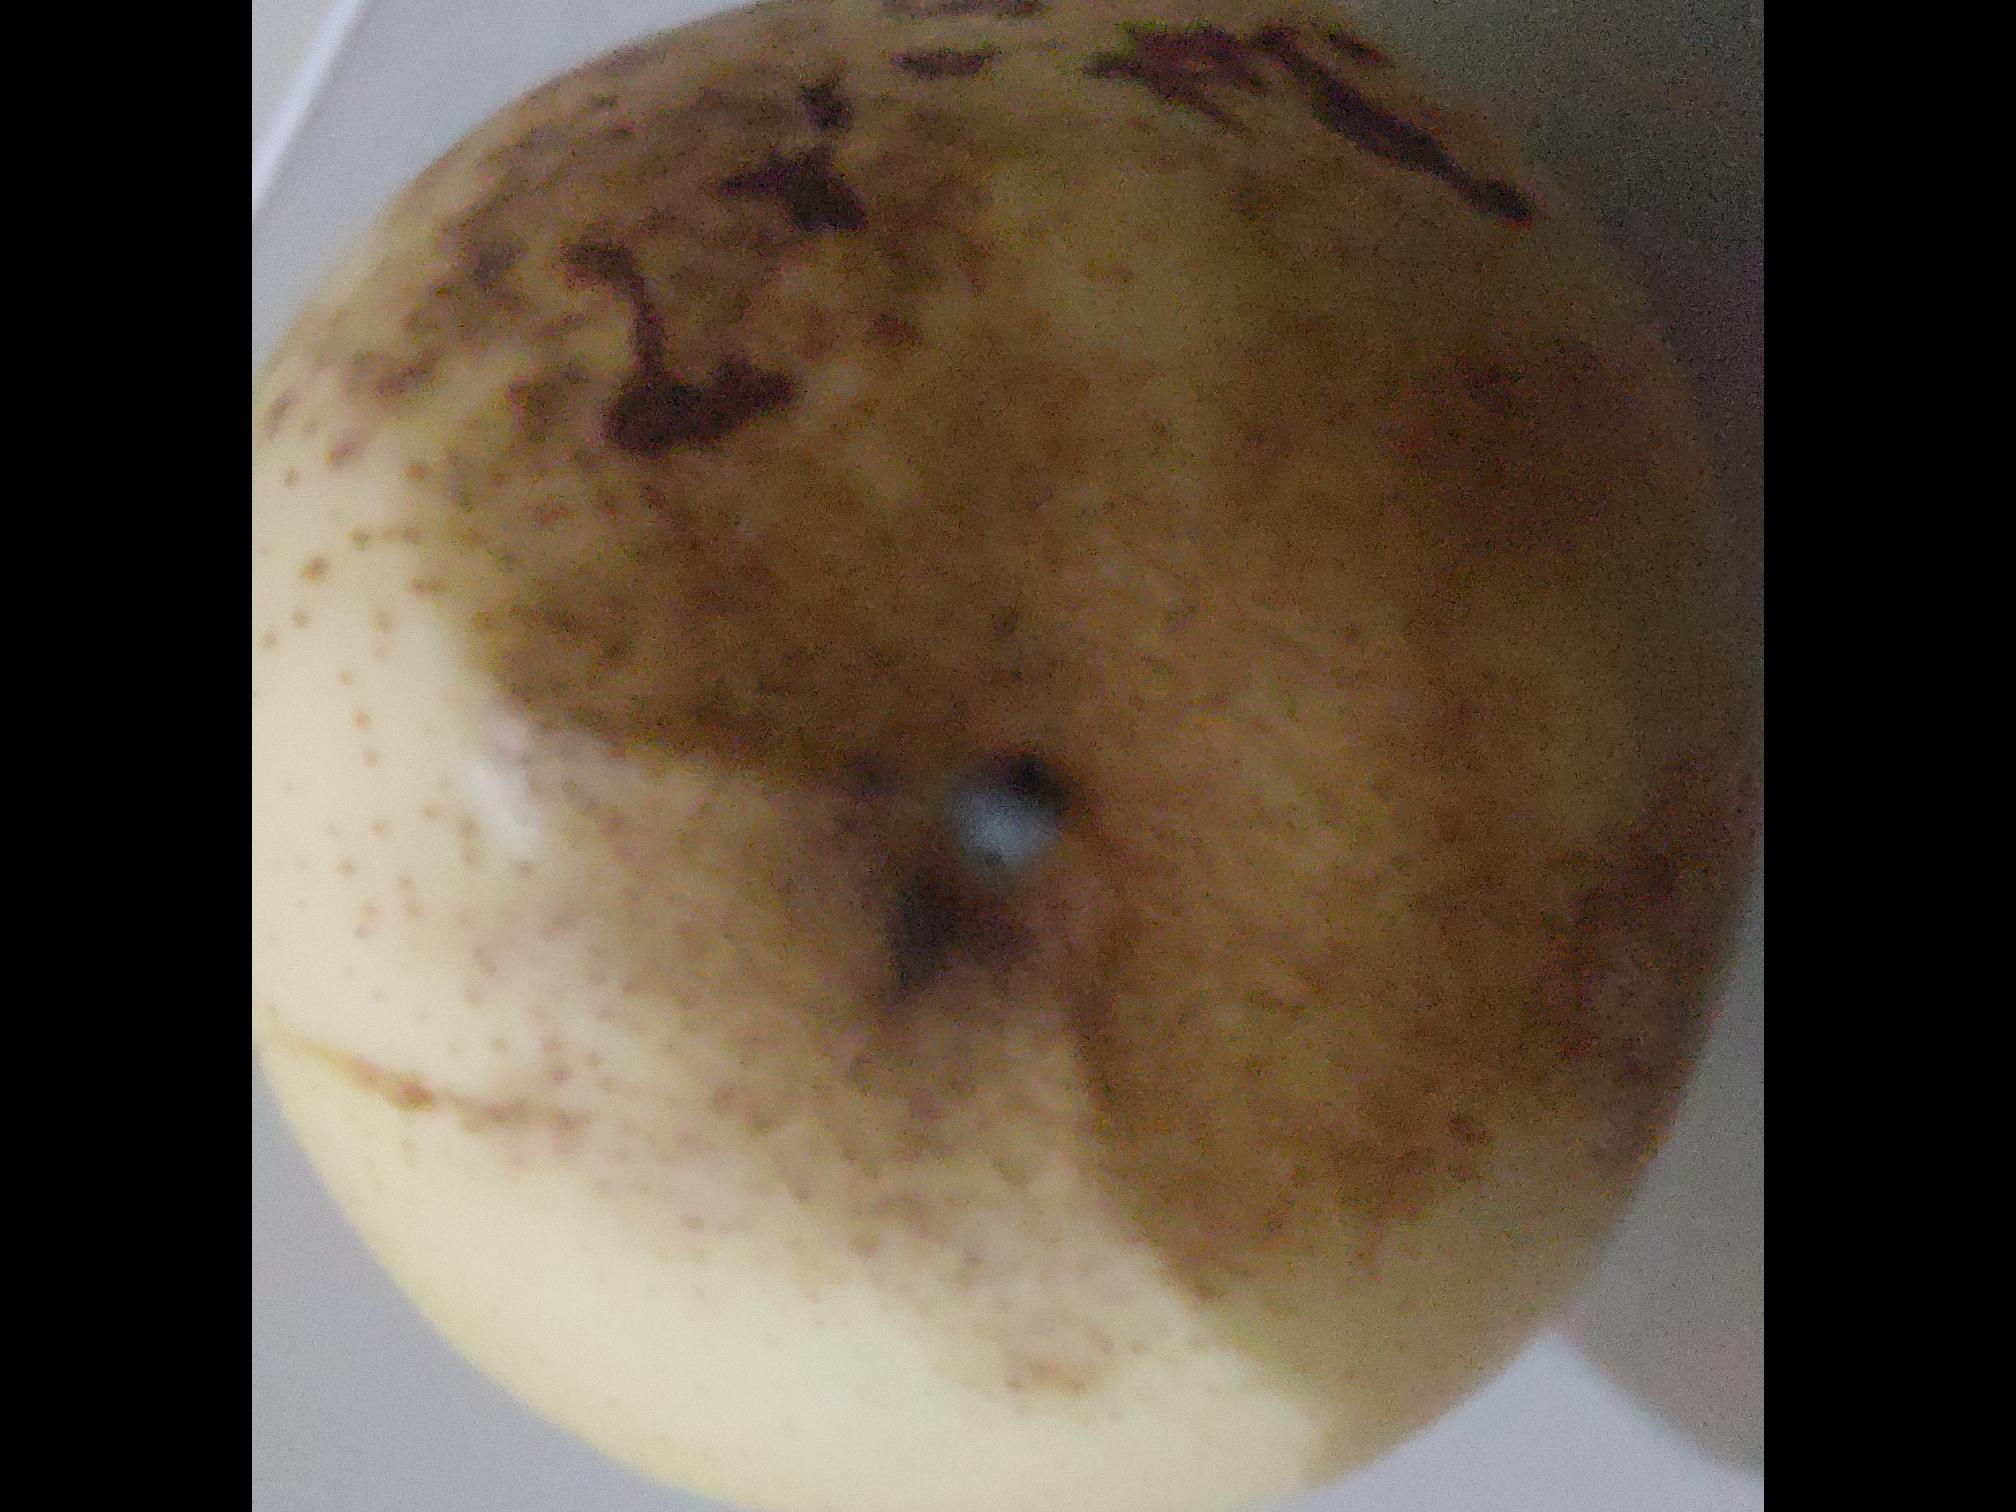Bad Pear: (252, 0, 1740, 1512)
